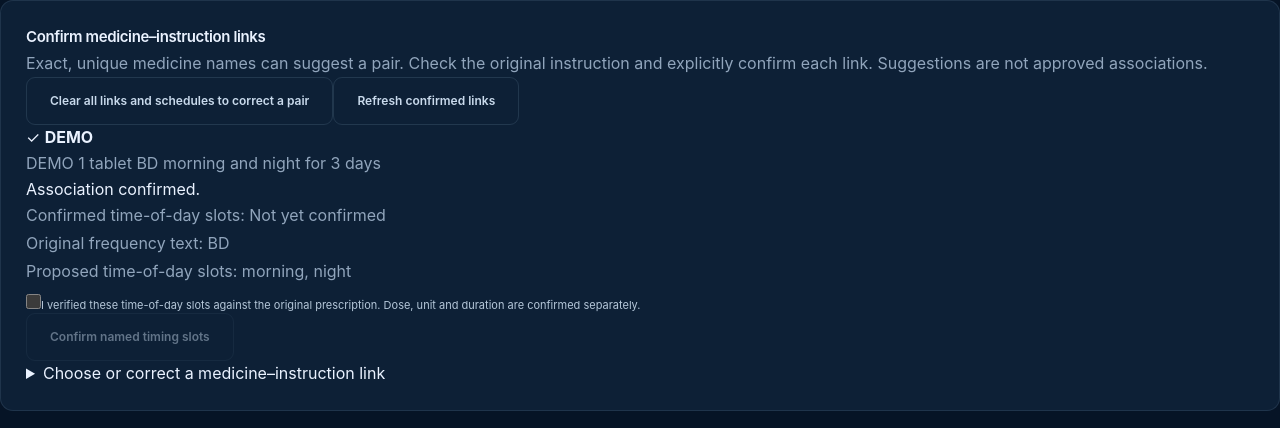
submits backend-proposed named slots and verifies their persisted values
The image size is (1280, 428).
Expected: the text "Proposed time-of-day slots: morning, night" is shown, [26,260,351,280]
Click the checkbox at [34, 301], box [26,294,41,308]
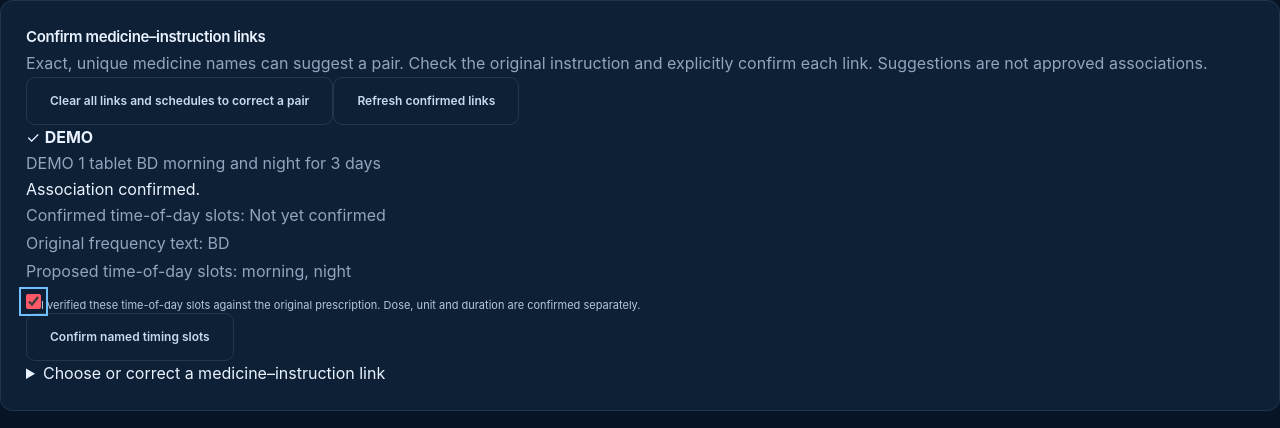
Click the button "Confirm named timing slots" at [130, 337], box [26,313,234,361]
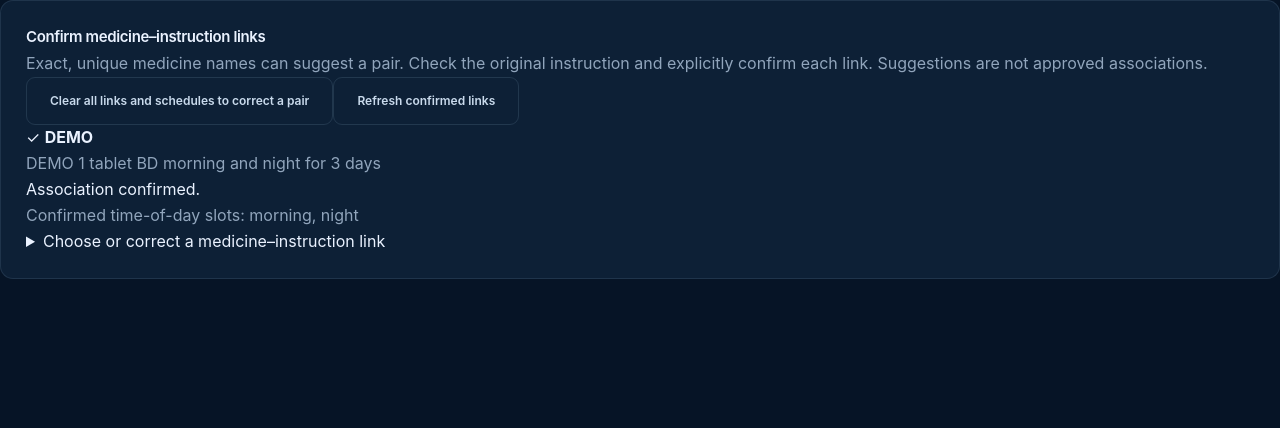
Now the text "Confirmed time-of-day slots: morning, night" is shown, box [26,204,359,224]
